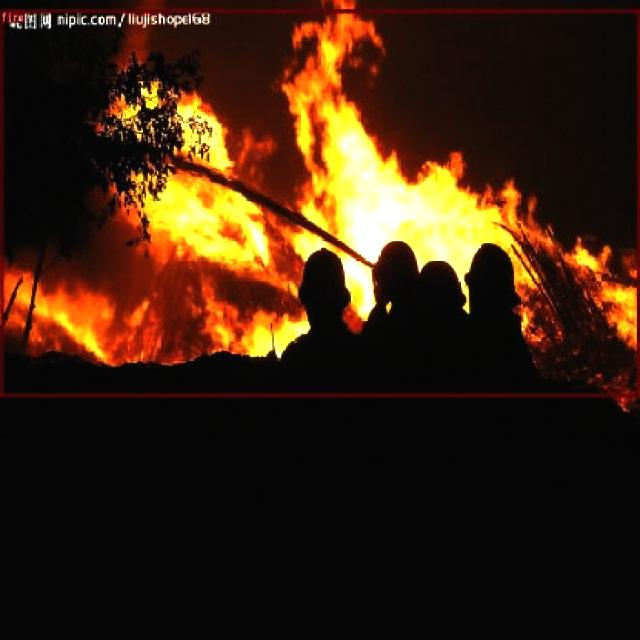fire: (1, 9, 640, 396)
